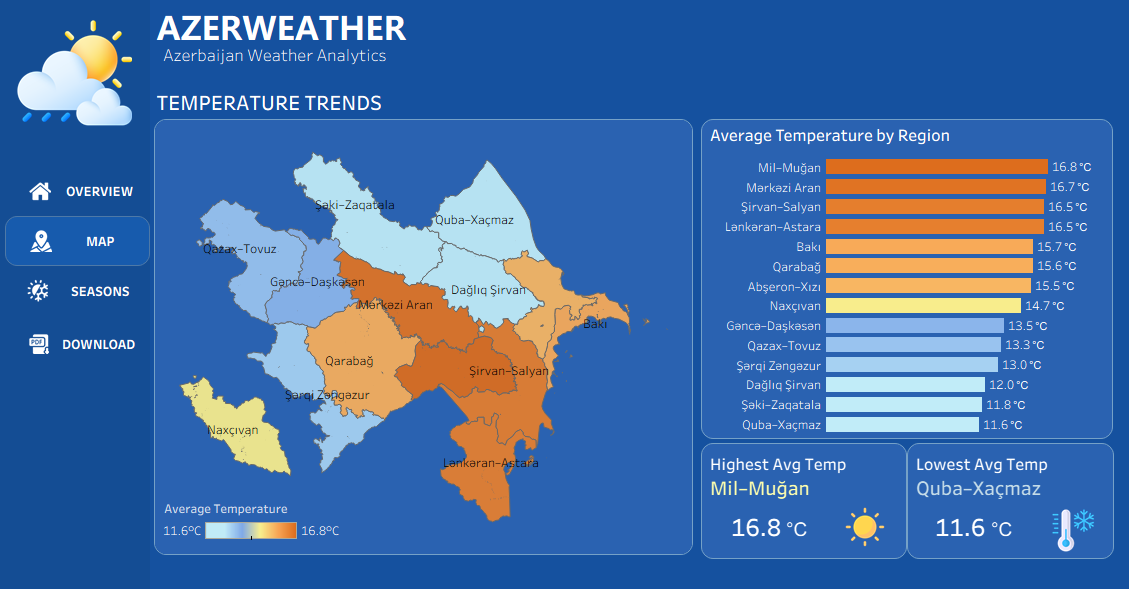

Layout of this report page (visuals, bound fields, positions):
{"tool":"tableau","page":{"name":"Dashboard 2","canvas":[1130,592],"ordinal":1},"visuals":[{"type":"image","param":"C:/Users/nergi/Downloads/weather.png","box":[0,0,151,167]},{"type":"text","box":[151,0,973,45]},{"type":"filter","title":"Map","param":"[federated.1j9qd3t01qob8y1cftrih18sft3u].[yr:date:ok]","box":[940,18,163,47]},{"type":"text","box":[151,45,973,42]},{"type":"text","box":[151,87,973,29]},{"type":"worksheet","title":"Map","mark":"Multipolygon","box":[151,116,547,444]},{"type":"worksheet","title":"AVG temp by reg","mark":"Automatic","rows":["region"],"cols":["Calculation_1791989015965696"],"box":[698,116,420,328]},{"type":"image","param":"C:/Users/nergi/Downloads/home.png","box":[6,167,50,50]},{"type":"dashboard-object","box":[56,167,95,50]},{"type":"image","param":"C:/Users/nergi/Downloads/map.png","box":[7,218,50,48]},{"type":"dashboard-object","box":[57,218,93,48]},{"type":"image","param":"C:/Users/nergi/Downloads/season.png","box":[6,267,50,50]},{"type":"dashboard-object","box":[56,267,95,50]},{"type":"image","param":"C:/Users/nergi/Downloads/download.png","box":[6,317,48,56]},{"type":"dashboard-object","box":[54,317,97,56]},{"type":"worksheet","title":"Max region","mark":"Text","box":[703,445,204.5,62]},{"type":"worksheet","title":"Min region","mark":"Text","box":[909.5,445,204.5,62]},{"type":"legend","title":"Map","param":"[federated.1j9qd3t01qob8y1cftrih18sft3u].[usr:Calculation_0115782054653952:qk]","box":[160,501,185,52]},{"type":"worksheet","title":"Max Avg","mark":"Automatic","box":[703,507,125,52]},{"type":"image","param":"C:/Users/nergi/Downloads/sun.png","box":[828,507,79.5,52]},{"type":"worksheet","title":"Min Avg","mark":"Automatic","box":[909.5,507,126,52]},{"type":"image","param":"C:/Users/nergi/Downloads/temperature (1).png","box":[1035.5,507,78.5,52]}]}

Visuals, with their boxes in screenshot pixels (x1, y1, x2, y2), scaled from the page's 1130x592 canvas onto the 1129x589 screenshot:
image: 0/0/151/166
text: 151/0/1123/45
"Map" filter: 939/18/1102/65
text: 151/45/1123/87
text: 151/87/1123/115
"Map" worksheet (Multipolygon marks): 151/115/697/557
"AVG temp by reg" worksheet: 697/115/1117/442
image: 6/166/56/216
dashboard-object: 56/166/151/216
image: 7/217/57/265
dashboard-object: 57/217/150/265
image: 6/266/56/315
dashboard-object: 56/266/151/315
image: 6/315/54/371
dashboard-object: 54/315/151/371
"Max region" worksheet (Text marks): 702/443/907/504
"Min region" worksheet (Text marks): 909/443/1113/504
"Map" legend: 160/498/345/550
"Max Avg" worksheet: 702/504/827/556
image: 827/504/907/556
"Min Avg" worksheet: 909/504/1035/556
image: 1035/504/1113/556
